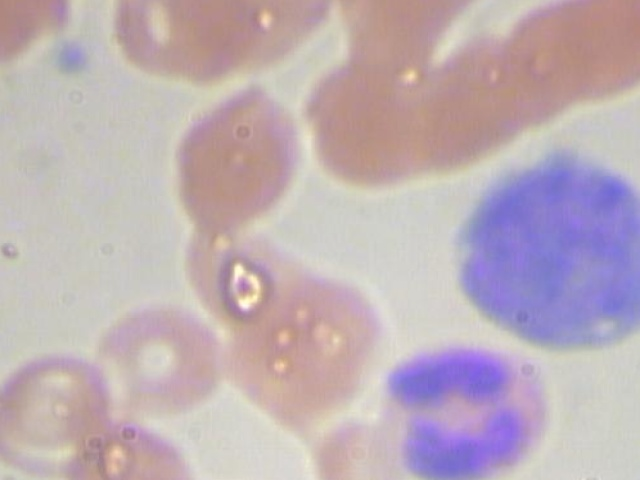Platelets: (41, 31, 92, 84)
RBC: (137, 84, 309, 250), (240, 264, 387, 404), (99, 281, 240, 421), (0, 326, 114, 465), (434, 30, 545, 162), (500, 0, 611, 127), (54, 409, 200, 480), (331, 0, 454, 76), (555, 0, 640, 104), (158, 0, 267, 81), (105, 0, 201, 84), (596, 0, 640, 84)
WBC: (424, 144, 640, 355), (372, 344, 565, 480)
